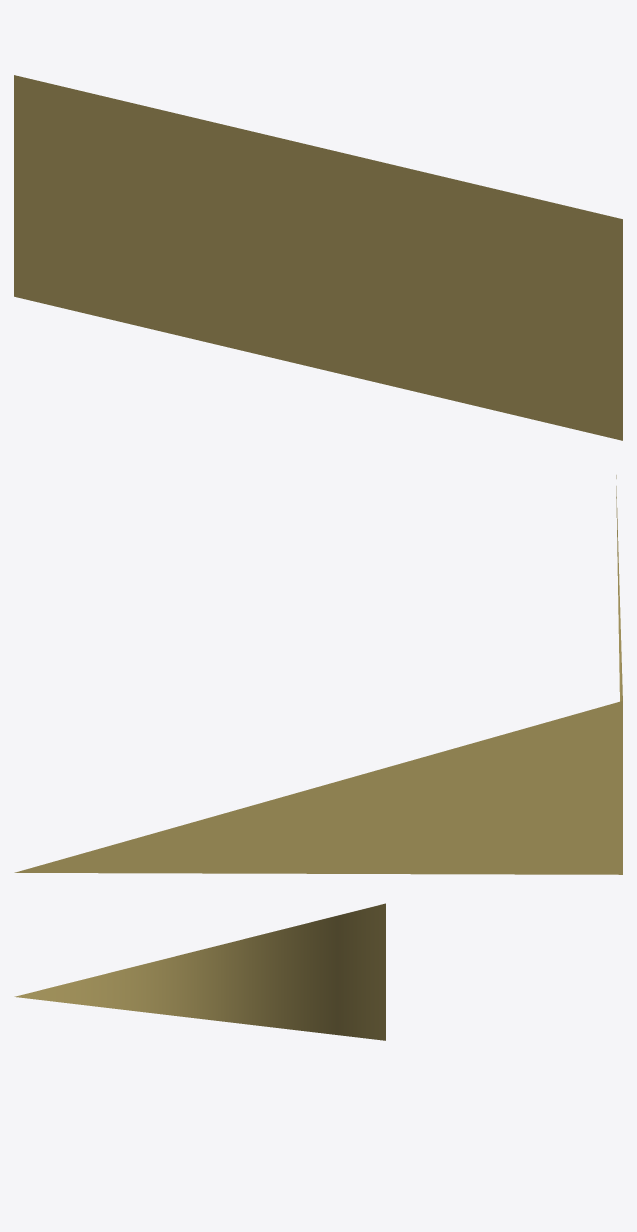
The picture shows the model from 3 angles, top to bottom: view 1: azimuth 30°, elevation 25°; view 2: azimuth 150°, elevation 25°; view 3: azimuth 270°, elevation 25°; orthographic projection. The views are drawn at different scales.
Bounding box in the file's own units: 34.48 × 12.5 × 50.23.
